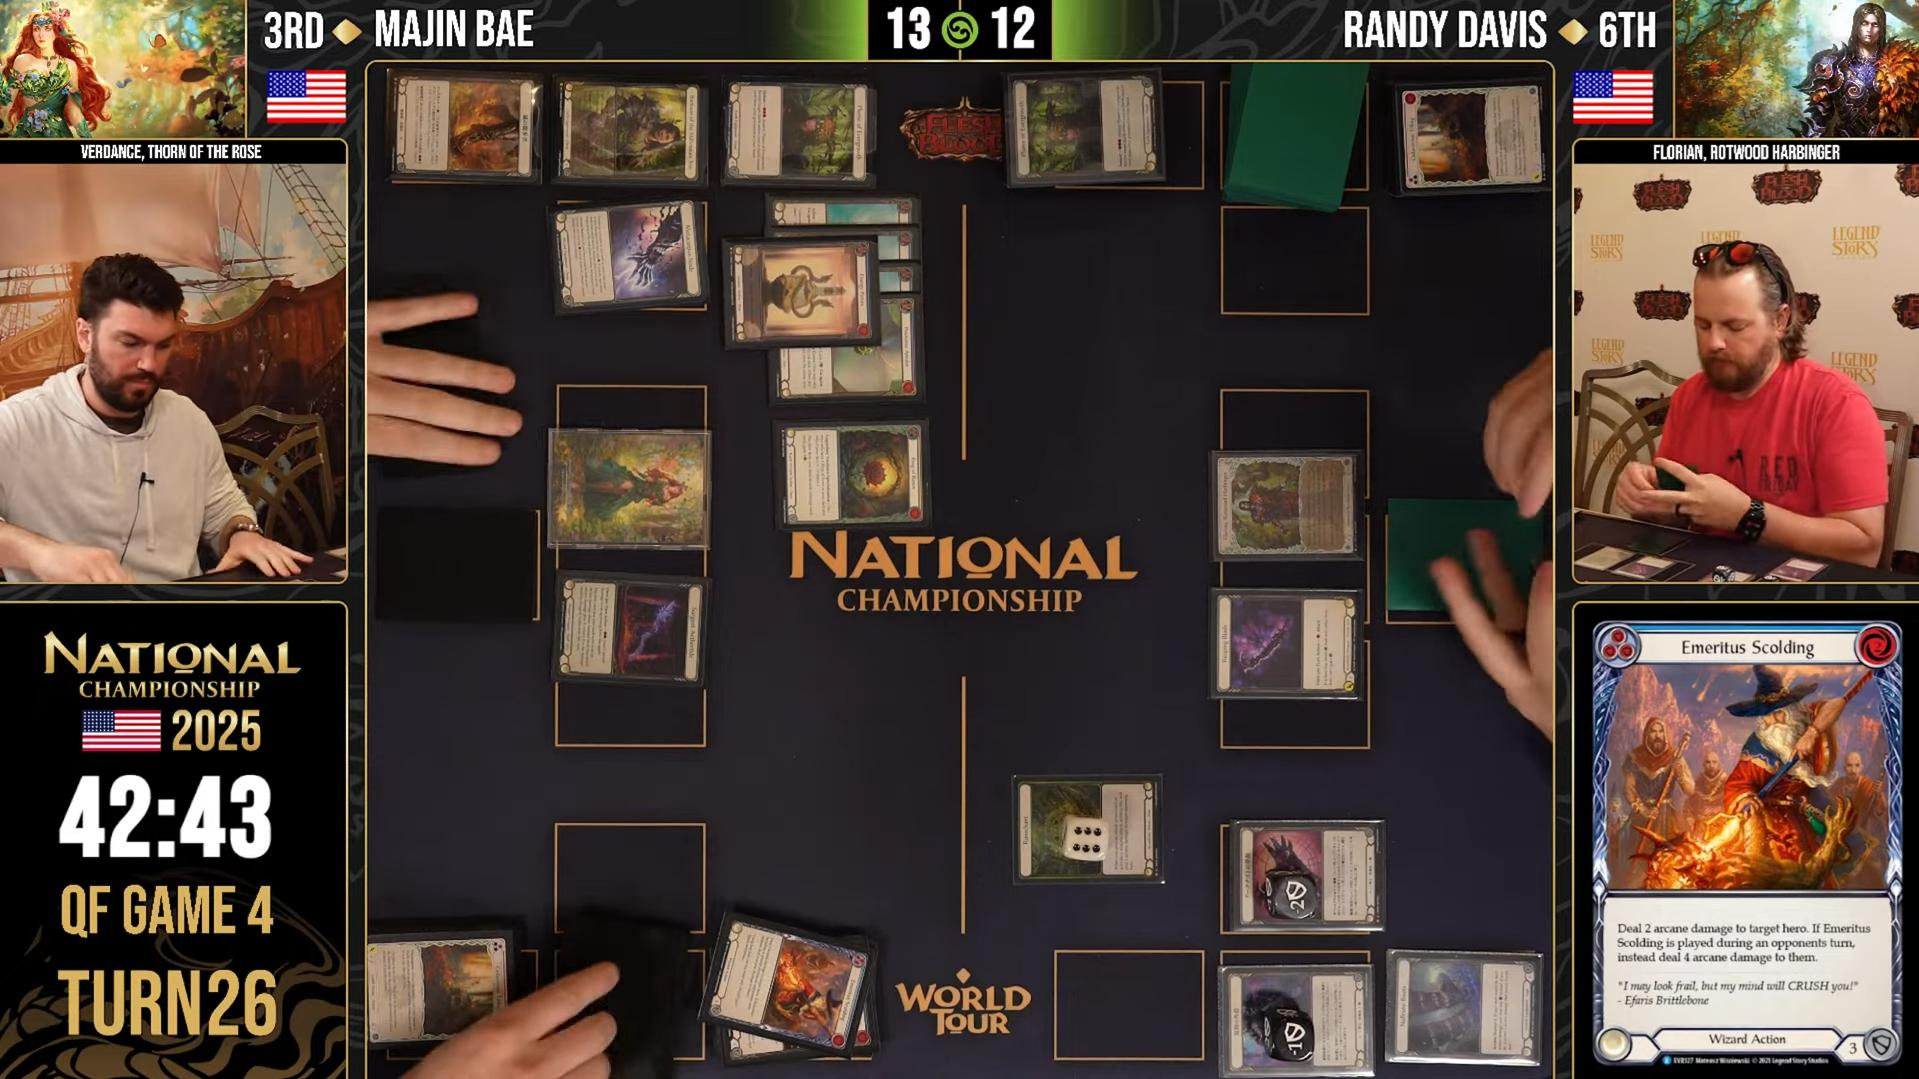Card: (1579, 613, 1919, 1065), (697, 906, 880, 1063), (548, 426, 713, 549), (547, 196, 709, 318), (1006, 771, 1169, 888), (1226, 813, 1383, 934), (768, 289, 931, 404), (1385, 947, 1538, 1070), (1003, 70, 1161, 187), (384, 65, 538, 183), (725, 231, 879, 349), (1217, 962, 1376, 1076), (550, 572, 709, 686), (1394, 79, 1550, 195), (768, 414, 927, 526), (548, 74, 702, 186), (721, 75, 873, 183), (1209, 585, 1352, 696), (1213, 449, 1352, 559), (369, 934, 507, 1043), (701, 995, 887, 1063), (763, 190, 917, 235), (871, 228, 928, 258), (871, 258, 924, 290)
